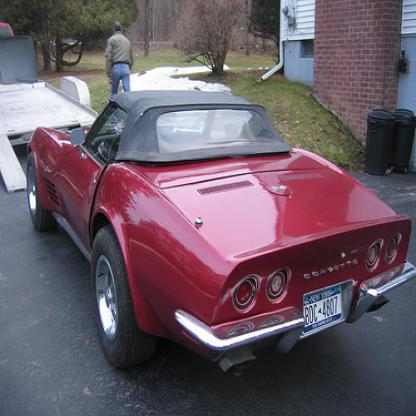car: (22, 86, 413, 375)
person: (104, 21, 134, 123)
